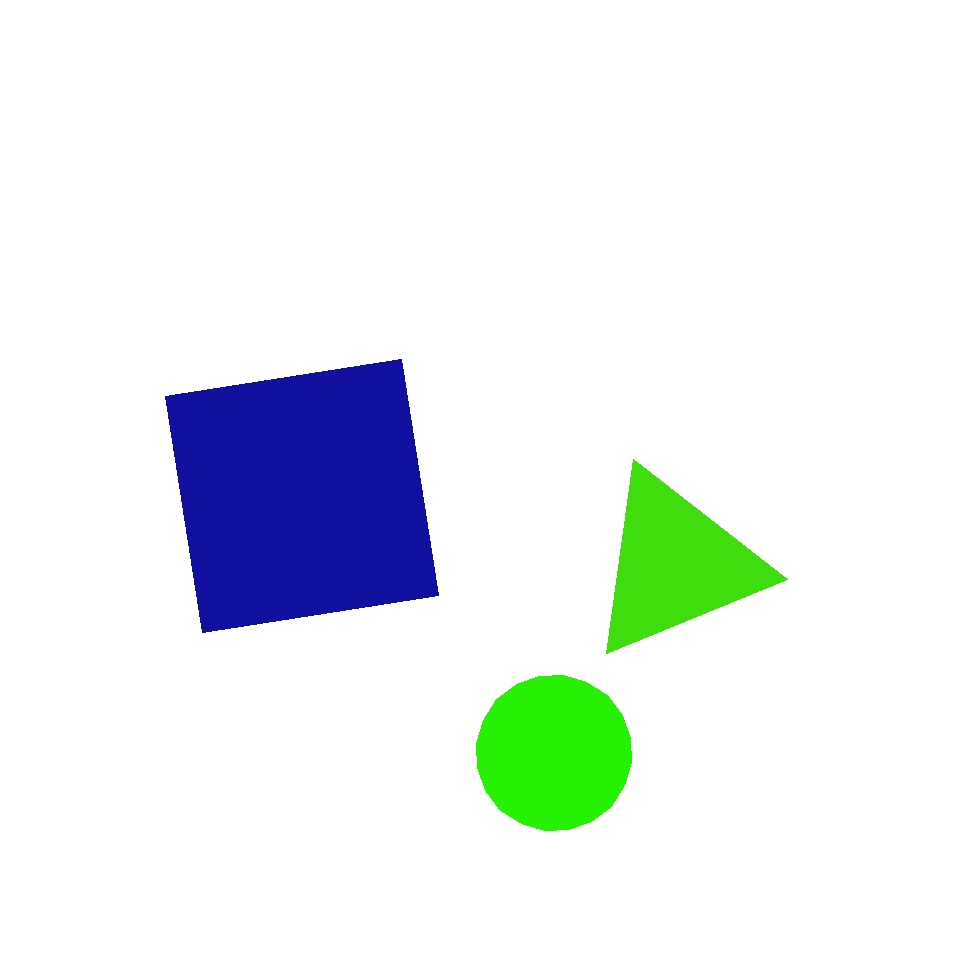circle: (586, 467, 766, 661), (368, 704, 463, 790)
square: (166, 360, 438, 633), (72, 92, 340, 360), (638, 468, 814, 644)
triangle: (476, 676, 631, 830)
